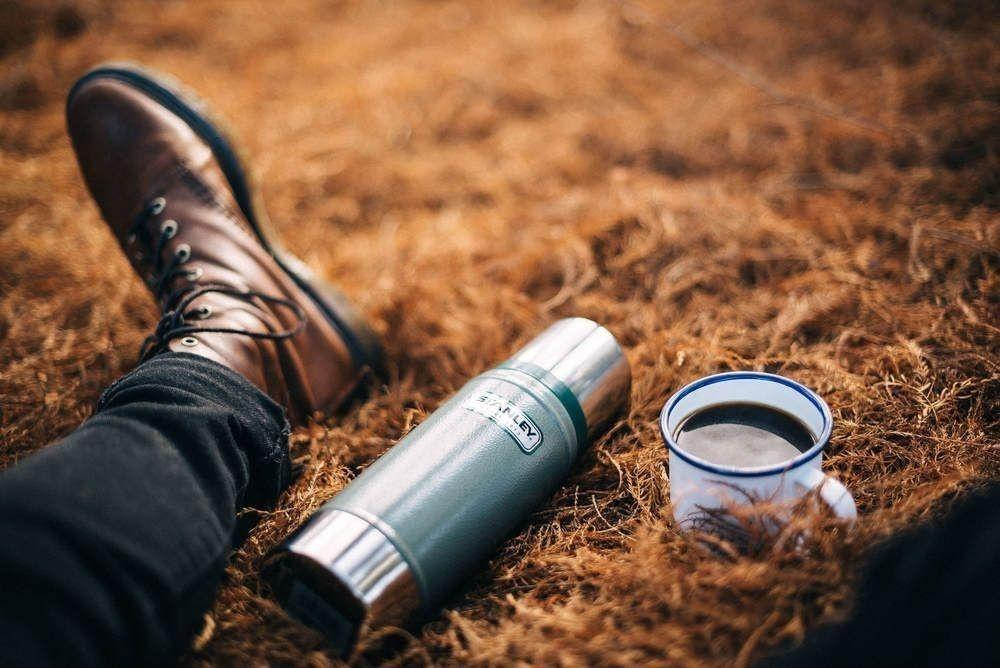cup-handle: (658, 369, 859, 553)
gym bottle: (255, 315, 632, 659)
